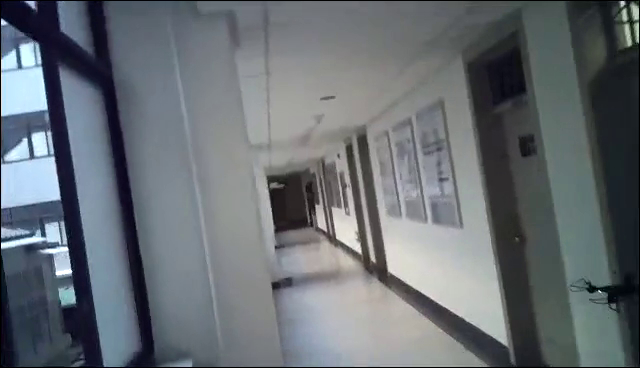drone: (568, 274, 640, 316)
